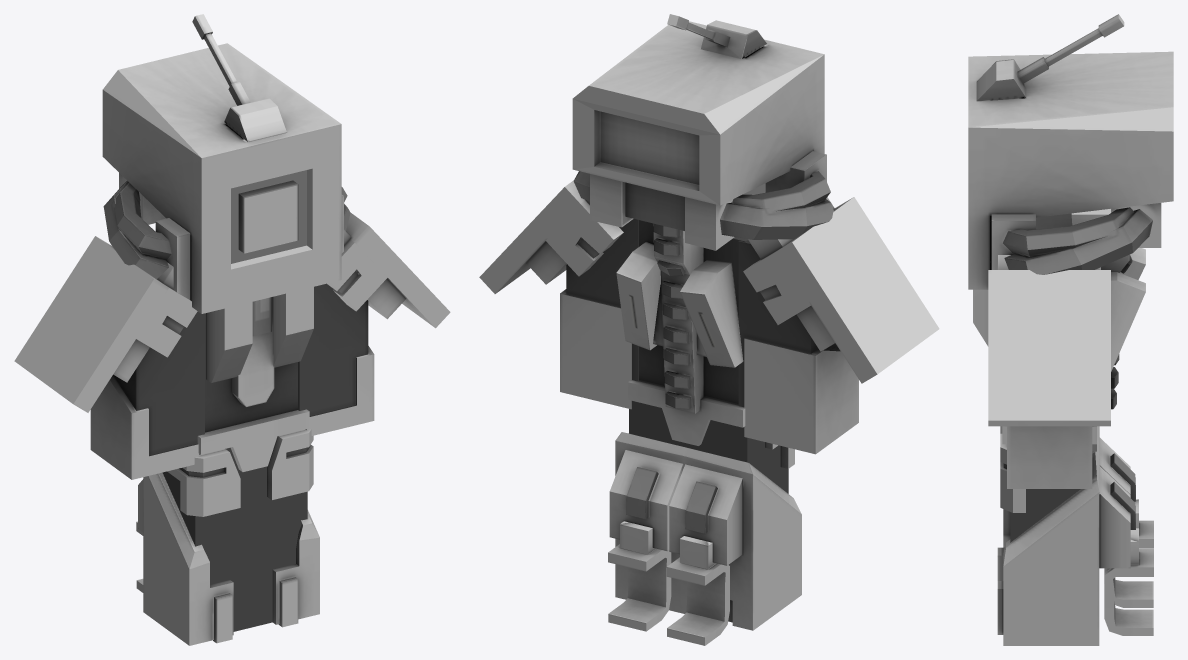
File: armor2.obj
3 renders of one model, left to right at view 1: azimuth 30°, elevation 25°; view 2: azimuth 150°, elevation 25°; view 3: azimuth 270°, elevation 25°, orthographic. The views are drawn at different scales.
Visible parts, largest first — view 1: helmetmain, armmain1, chestmain, bootmain1, armmain, armgray1, armgray, helmetglow1, leggray1, leggray, bootmain, chestgray (+3 smaller); view 2: helmetmain, armmain1, bootmain1, armmain, chestback1, bootmain, helmetglow1, armgray1, chestgray, chestglowback, armgray, chestmain (+4 smaller); view 3: helmetmain, armmain, bootmain, helmetglow1, chestback1, bootmain1, leggray, chestmain, legbit, bootglow1, bootglow, chestgray (+1 smaller).
Part boxes in pixels (<box>): helmetmain: <box>102,14,343,313</box>; armmain1: <box>14,236,199,479</box>; chestmain: <box>197,287,313,471</box>; bootmain1: <box>136,472,233,645</box>; armmain: <box>305,213,450,435</box>; armgray1: <box>113,311,204,455</box>; armgray: <box>298,283,368,416</box>; helmetglow1: <box>103,170,350,278</box>; leggray1: <box>162,447,252,631</box>; leggray: <box>249,466,307,627</box>; bootmain: <box>272,510,319,627</box>; chestgray: <box>205,313,297,432</box>; helmetmain: <box>572,14,826,250</box>; armmain1: <box>743,197,939,454</box>; bootmain1: <box>666,447,801,645</box>; armmain: <box>479,180,631,409</box>; chestback1: <box>616,224,743,413</box>; bootmain: <box>608,432,687,631</box>; helmetglow1: <box>573,171,833,239</box>; armgray1: <box>738,240,839,407</box>; chestgray: <box>639,220,748,405</box>; chestglowback: <box>653,223,691,409</box>; armgray: <box>566,219,638,381</box>; chestmain: <box>628,380,745,445</box>; helmetmain: <box>968,14,1173,289</box>; armmain: <box>988,255,1110,488</box>; bootmain: <box>997,451,1153,645</box>; helmetglow1: <box>1003,207,1152,274</box>; chestback1: <box>1071,209,1145,371</box>; bootmain1: <box>997,426,1153,607</box>; leggray: <box>1010,489,1080,542</box>; chestmain: <box>973,289,1096,451</box>; legbit: <box>1000,433,1025,512</box>; bootglow1: <box>1110,453,1135,501</box>; bootglow: <box>1110,482,1135,529</box>; chestgray: <box>1036,213,1072,229</box>.
Size of the model in its own units: 28.67 by 41.79 by 13.02.
